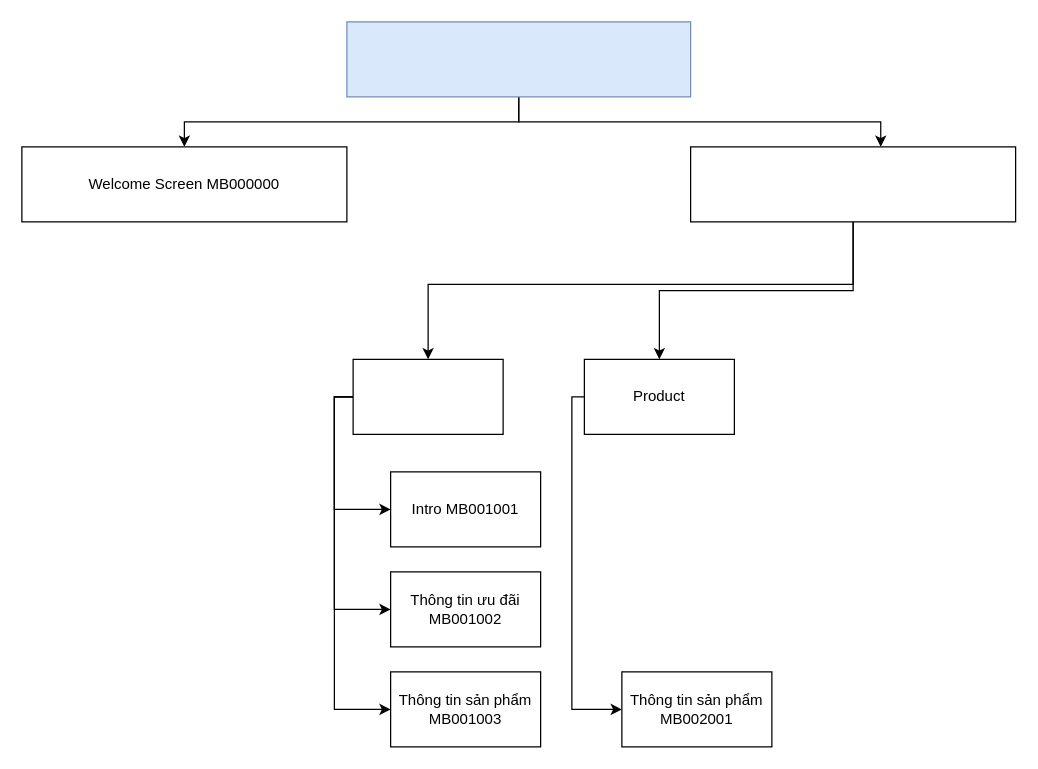
Some shapes in this 1038 by 769 pixel diagram are drawn without their labels. Here are the shapes that lost their labels. From the top down, the centre of each, then its label:
At point (518, 59): "Mask APP".
At point (852, 184): "App Screen MB001".
At point (427, 396): "Home".
